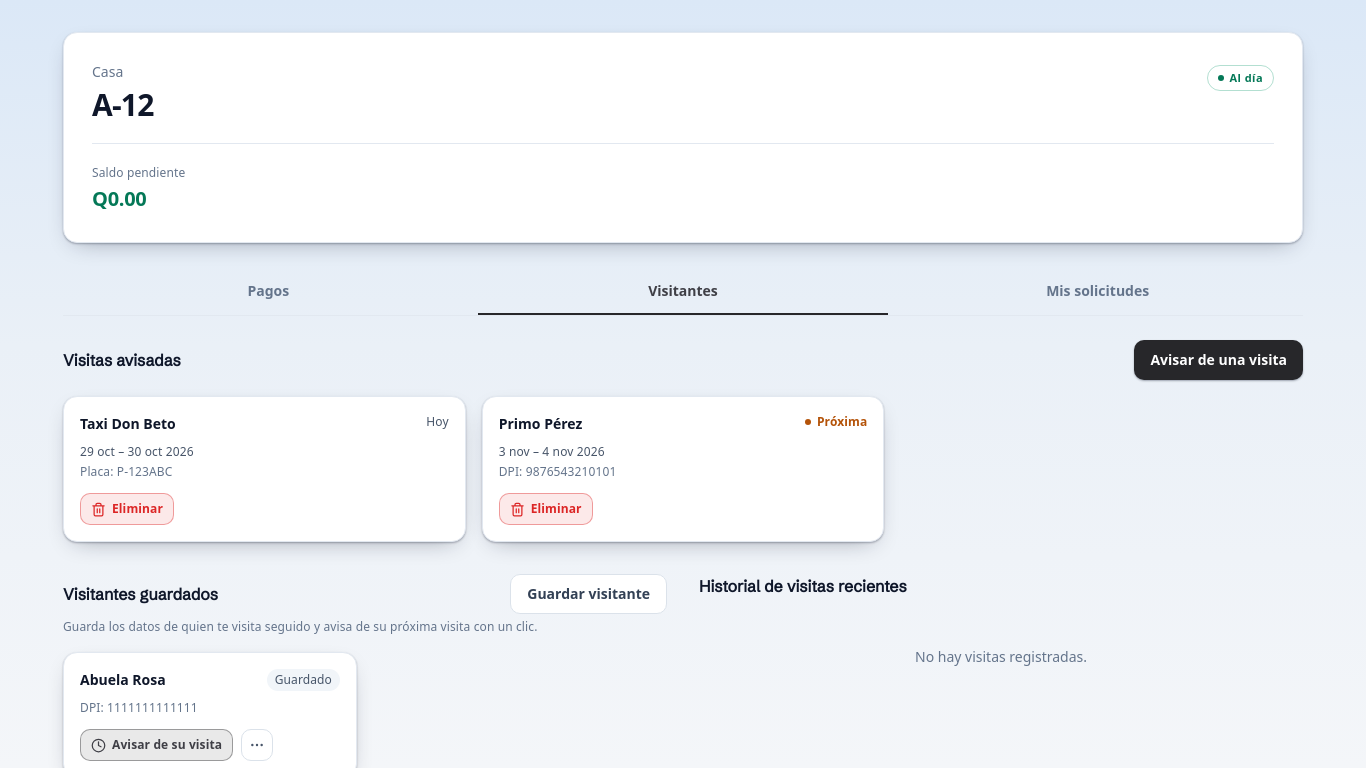
ResidentePage › Invitados › «Avisar de su visita» abre el formulario con los datos de la persona guardada y NO crea nada hasta enviar
Click the button "Avisar de su visita" at (157, 745), box top-left (80, 729), bottom-right (233, 761)
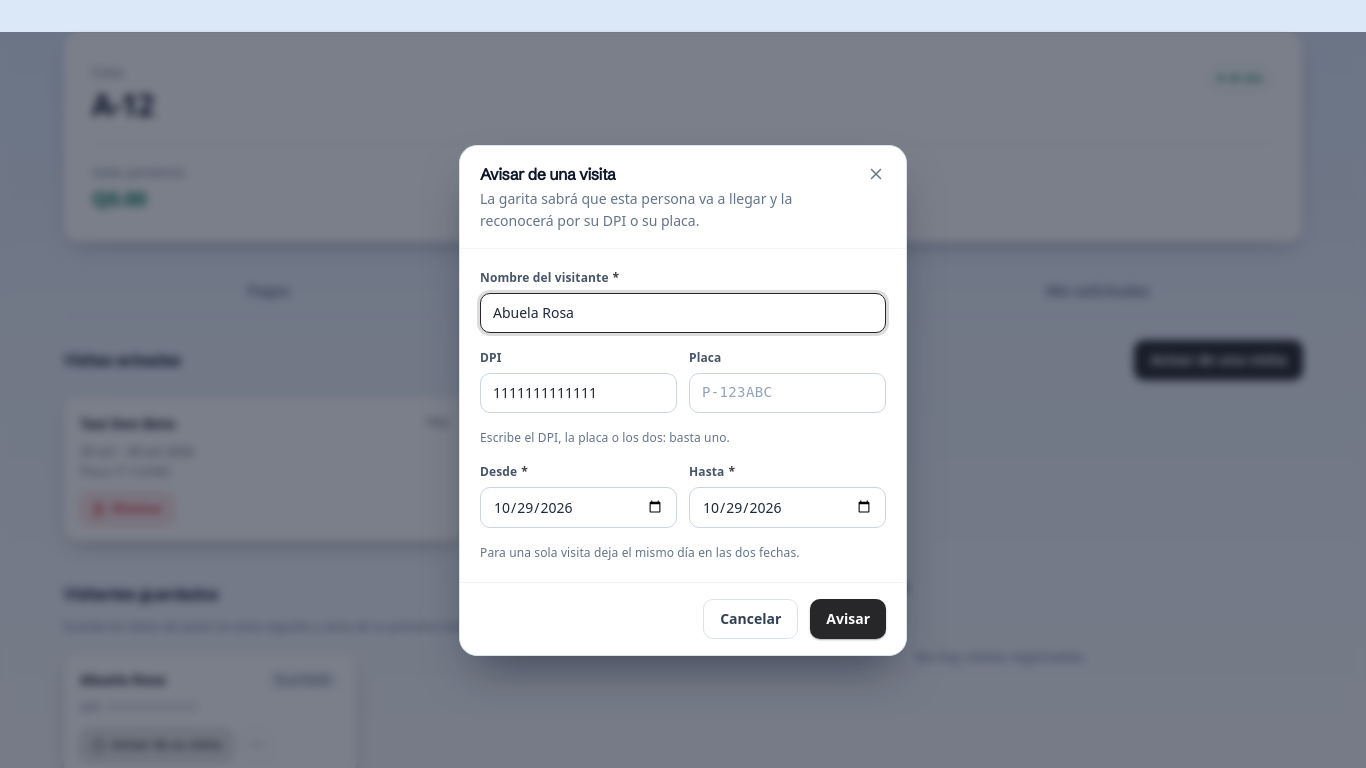
Result: the field labelled "Nombre del visitante*" holds "Abuela Rosa" at top-left (480, 292), bottom-right (886, 332)
Result: the field labelled "DPI" holds "1111111111111" at top-left (480, 372), bottom-right (677, 412)
Click the button "Avisar" at (848, 618), box top-left (810, 598), bottom-right (886, 638)
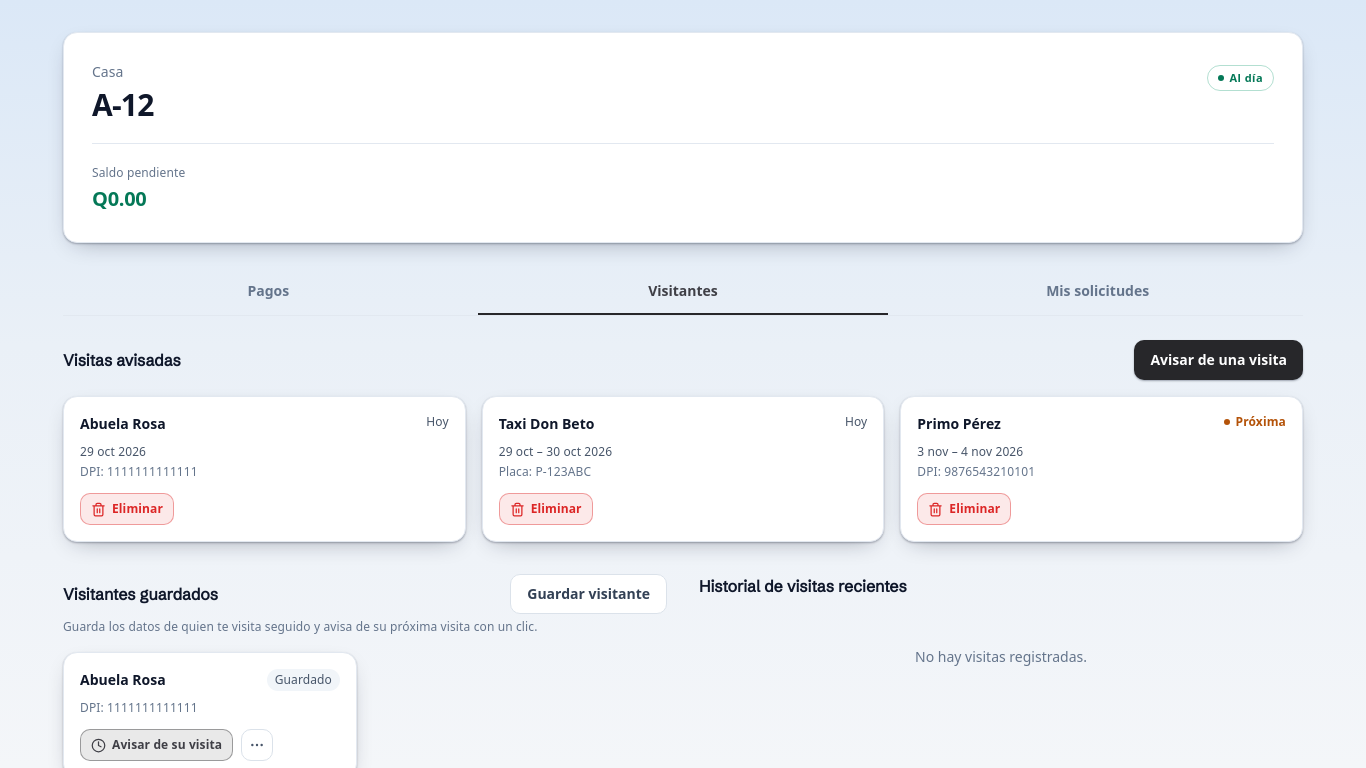
Result: the text "Abuela Rosa" in the row of "Taxi Don Beto" is shown at top-left (80, 414), bottom-right (166, 433)
